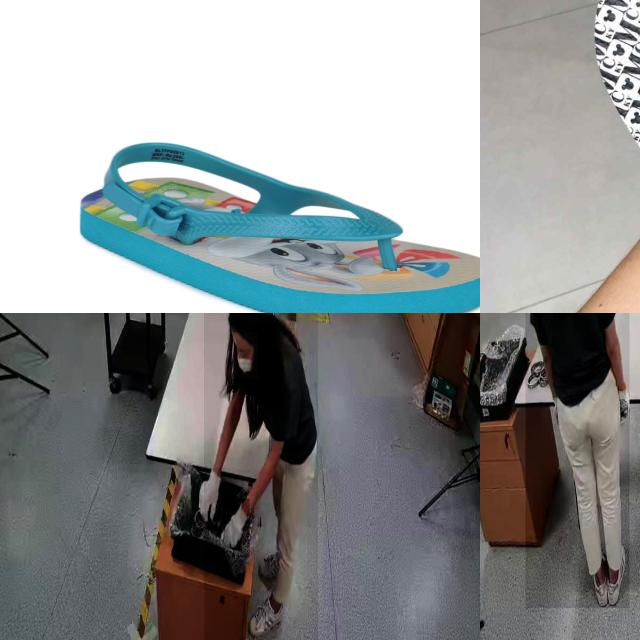Sandals: (76, 140, 480, 313), (559, 0, 640, 313)
face_mask: (232, 332, 258, 378)
hand_glove: (200, 468, 226, 532), (222, 499, 250, 558), (619, 393, 635, 424)
person: (203, 313, 318, 640), (525, 313, 630, 609)
shoes: (245, 593, 284, 640), (607, 540, 627, 606), (589, 548, 608, 607), (257, 546, 287, 581)
